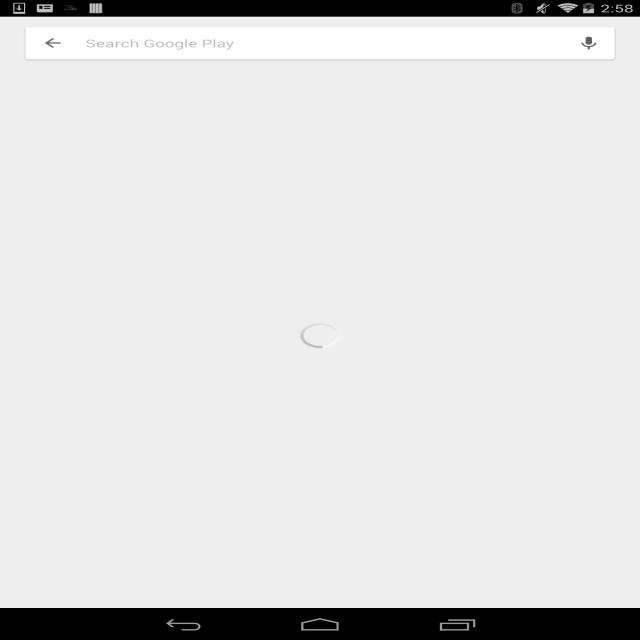button: (575, 30, 604, 56), (40, 34, 66, 52)
field: (25, 27, 614, 59)
label: (83, 36, 234, 52)
